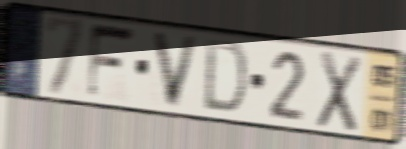2: (269, 48, 308, 123)
7: (44, 12, 88, 100)
D: (201, 36, 249, 117)
F: (84, 21, 139, 103)
V: (149, 27, 201, 112)
X: (314, 48, 364, 136)
